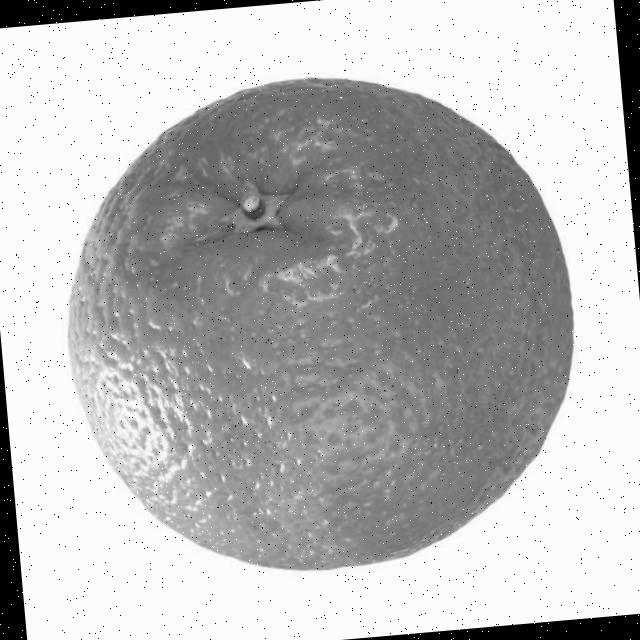Ripe: (37, 51, 594, 590)
